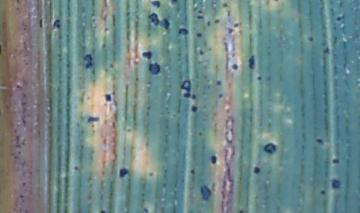tarspot: (263, 141, 277, 155), (147, 12, 160, 26), (148, 62, 161, 74), (201, 185, 210, 202), (84, 53, 93, 69), (180, 80, 192, 92), (117, 167, 130, 178), (85, 114, 100, 123), (51, 18, 62, 29), (331, 178, 341, 190), (248, 54, 255, 70), (162, 19, 171, 31), (141, 51, 152, 60), (150, 1, 161, 10), (177, 27, 189, 35), (103, 92, 112, 102), (182, 91, 192, 100), (230, 63, 238, 72), (321, 46, 330, 54), (252, 166, 260, 175), (330, 157, 340, 164), (190, 105, 198, 113), (307, 35, 315, 43), (196, 129, 203, 138), (211, 154, 217, 164), (196, 13, 204, 20), (214, 79, 222, 86), (316, 137, 323, 145), (148, 169, 154, 178), (190, 167, 196, 176), (38, 18, 43, 28), (195, 31, 202, 38), (337, 15, 344, 22), (191, 93, 197, 101), (198, 49, 204, 57), (320, 188, 326, 196), (169, 1, 178, 6), (73, 164, 79, 171), (212, 18, 220, 23), (109, 63, 115, 69), (103, 26, 109, 32), (100, 208, 107, 213), (218, 93, 223, 99), (257, 75, 262, 81), (222, 2, 228, 7), (102, 42, 107, 48), (143, 208, 148, 213), (233, 23, 239, 27), (207, 20, 210, 27), (239, 209, 244, 213)
